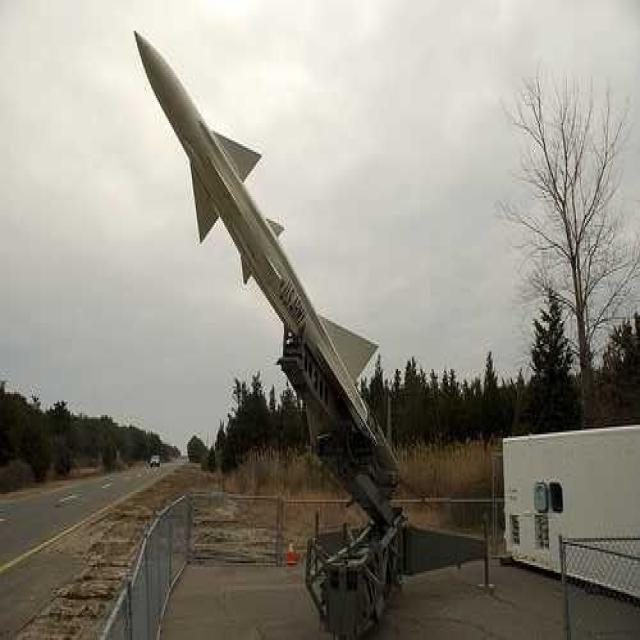missile: (128, 28, 407, 502)
